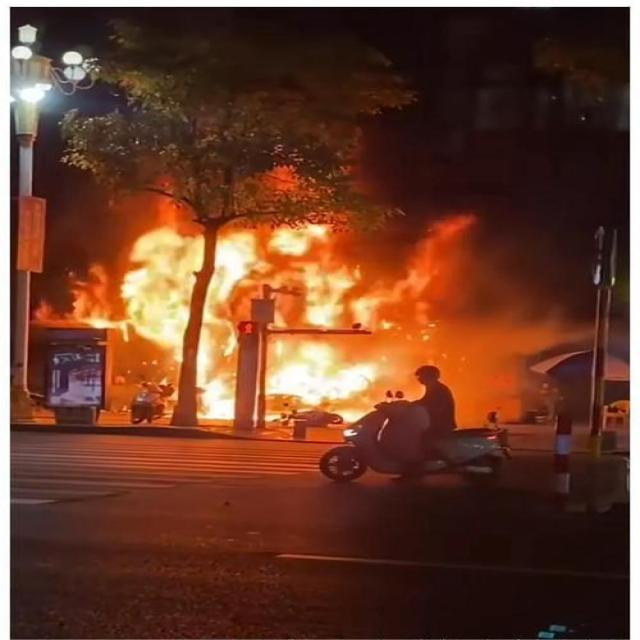Fire: (94, 227, 198, 345), (269, 338, 376, 404), (302, 268, 378, 328), (201, 235, 256, 312), (198, 318, 238, 422), (271, 224, 324, 259)
